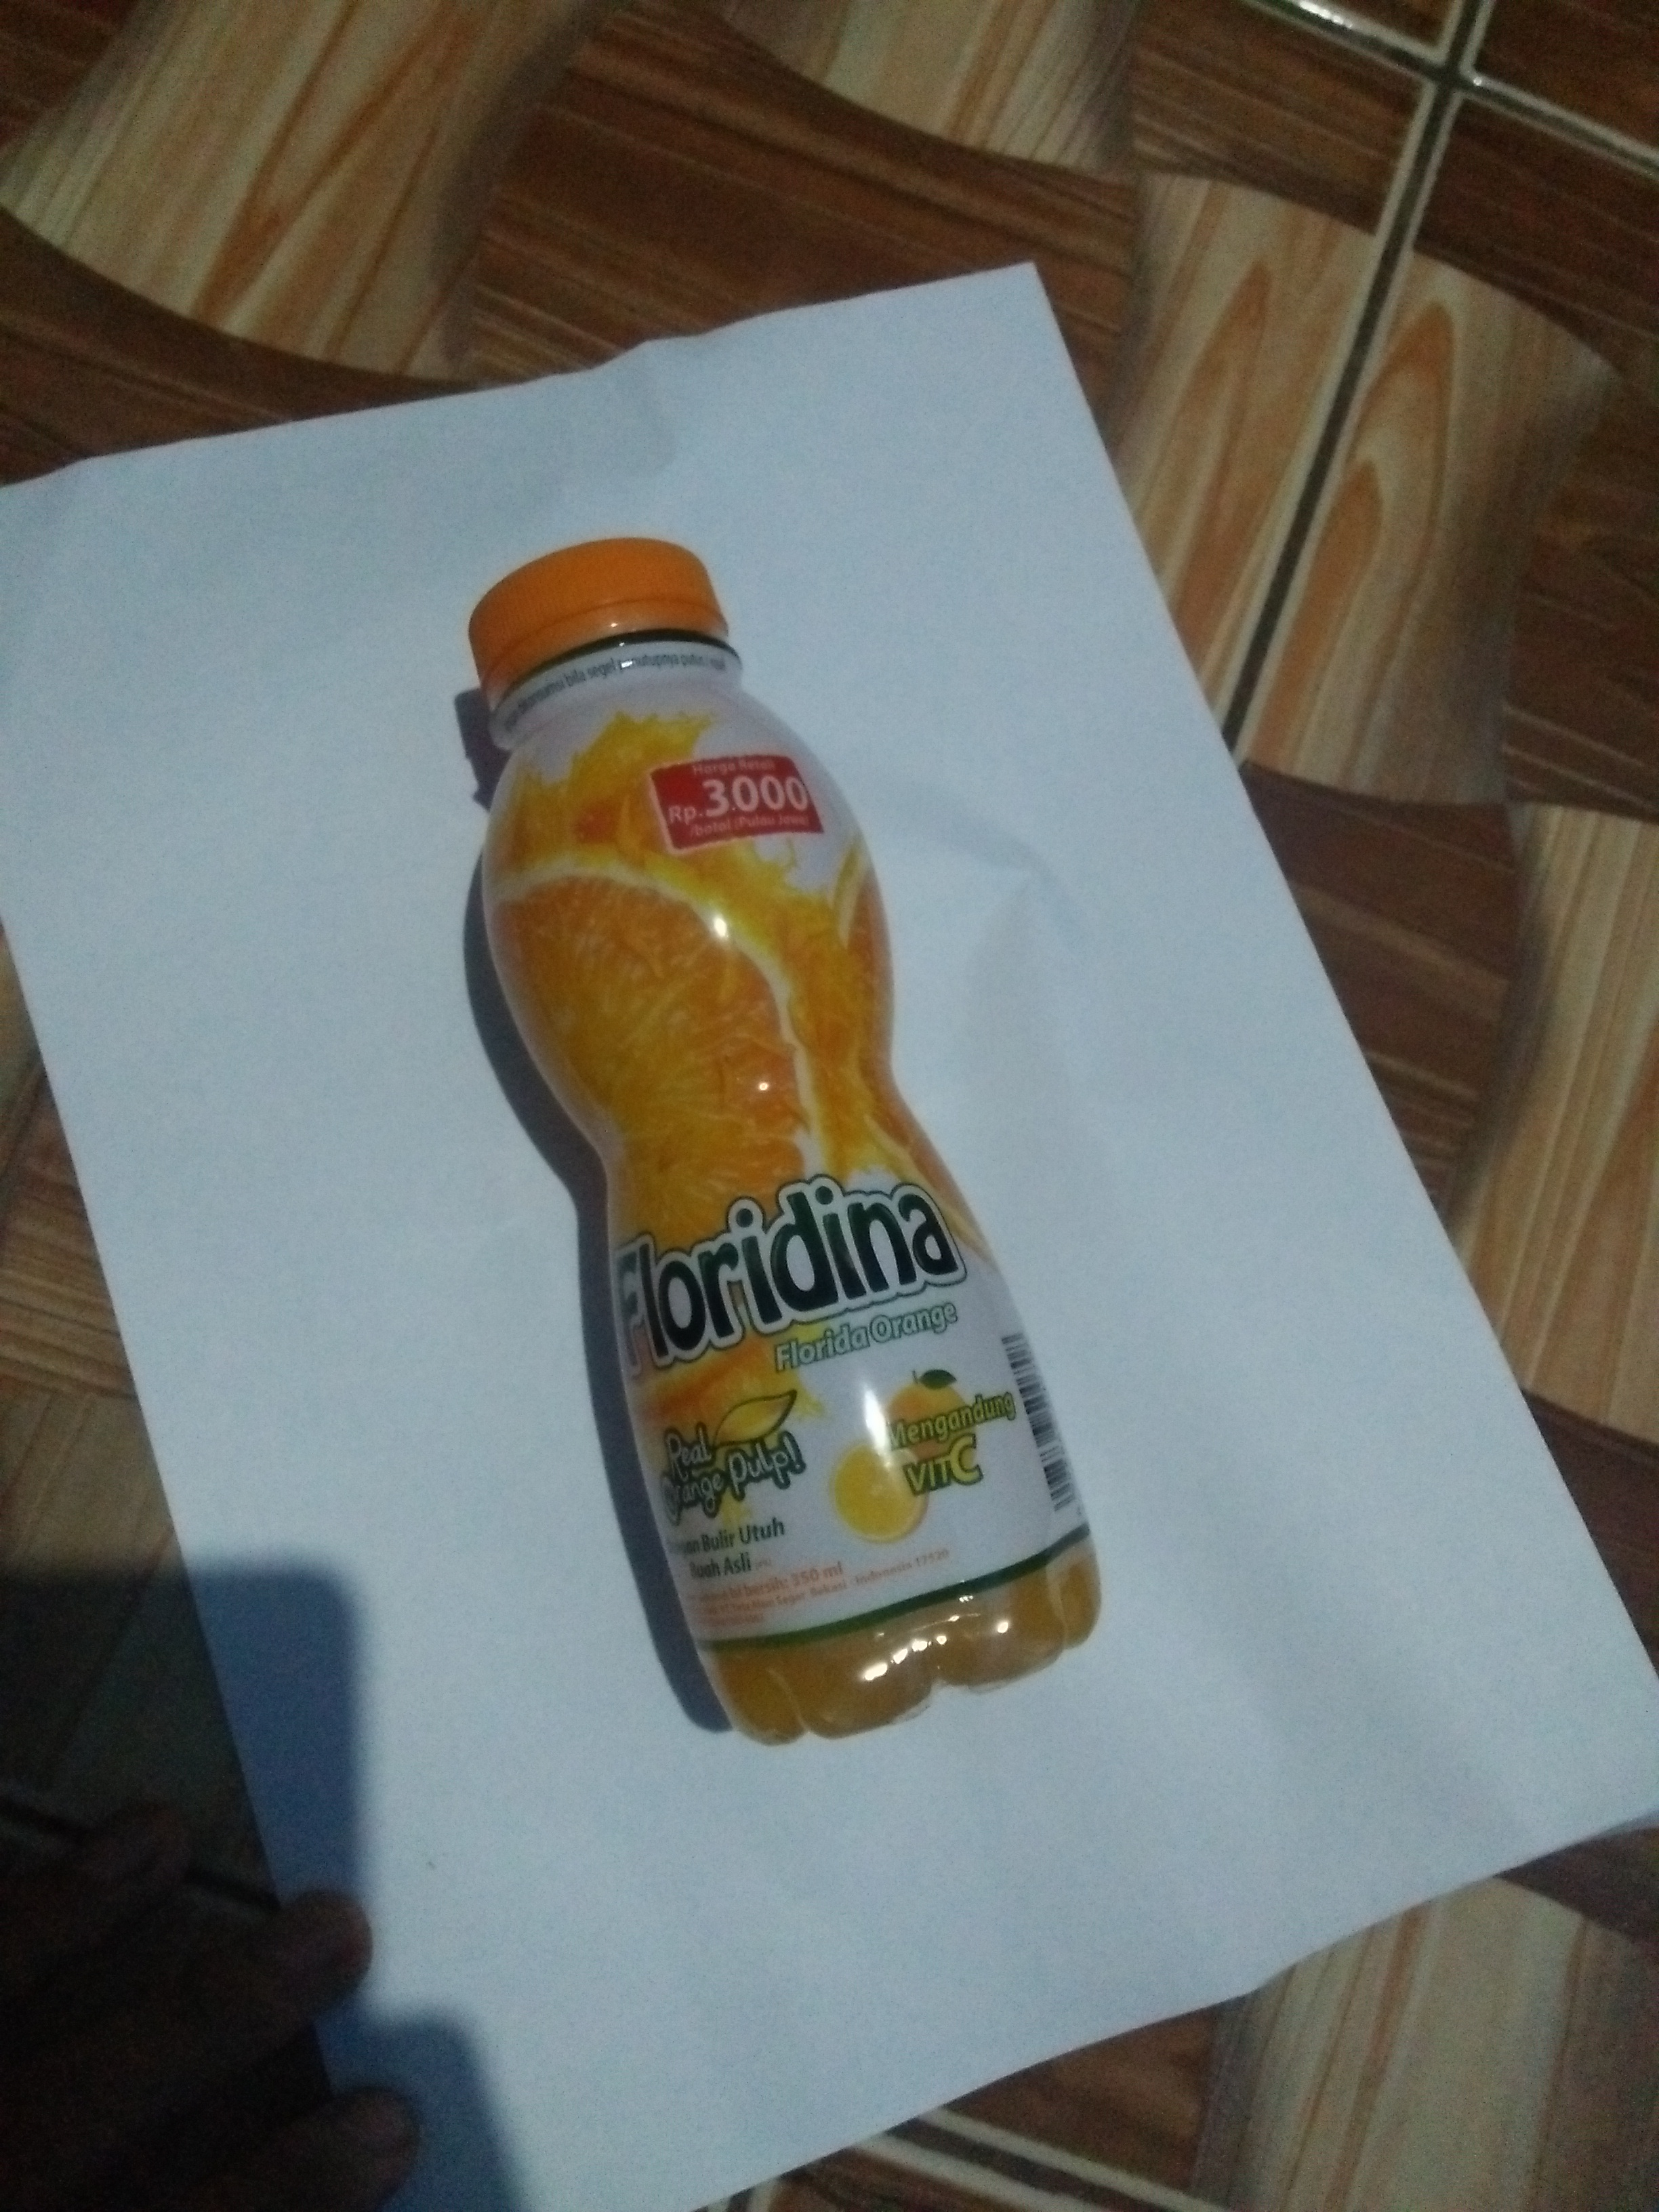Floridina: (464, 516, 1115, 1761)
